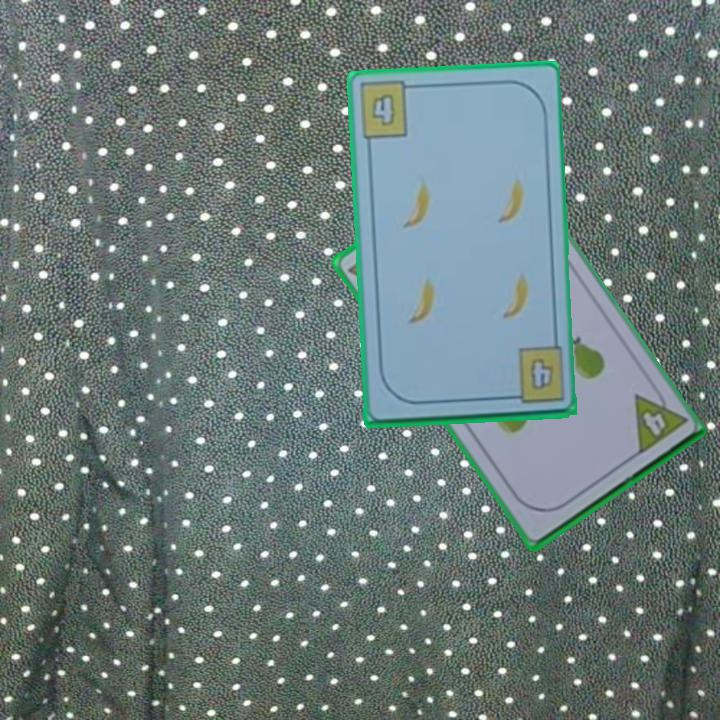4b: (355, 80, 419, 143), (526, 354, 556, 393)
4p: (629, 380, 688, 459)
